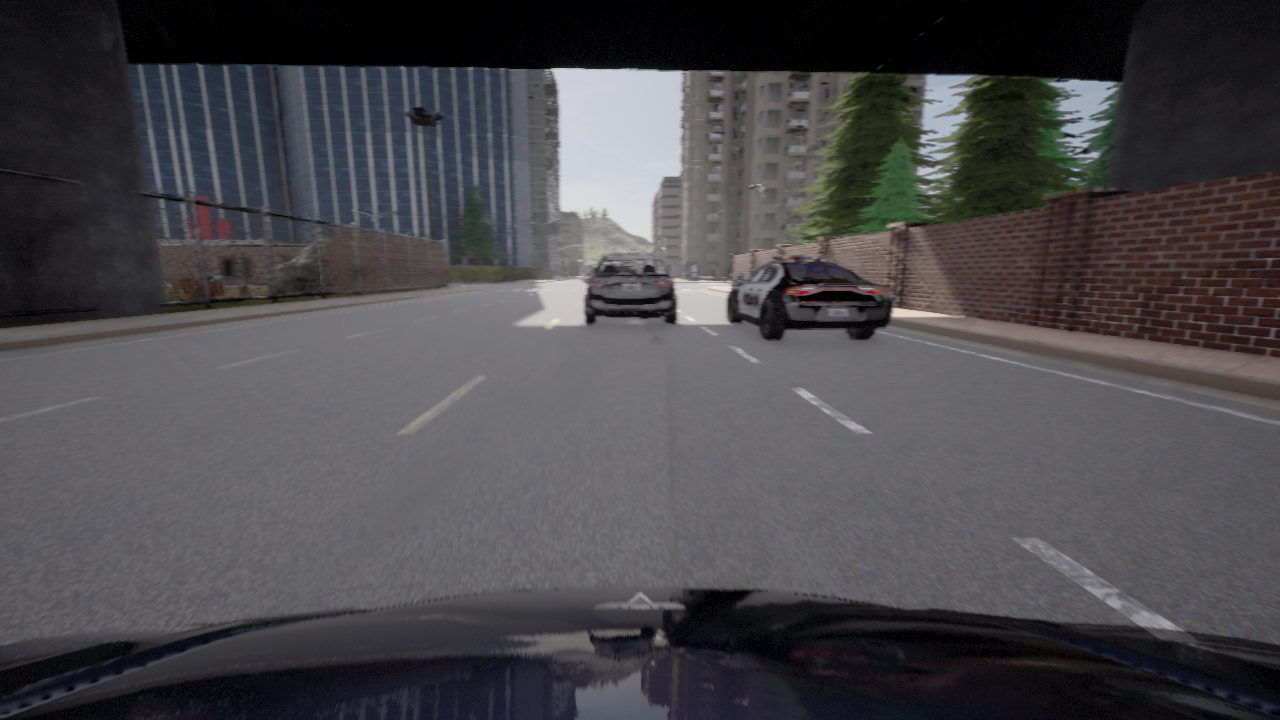cyclist: (0, 588, 1279, 719), (726, 256, 893, 339), (584, 254, 676, 324), (582, 271, 591, 283)
